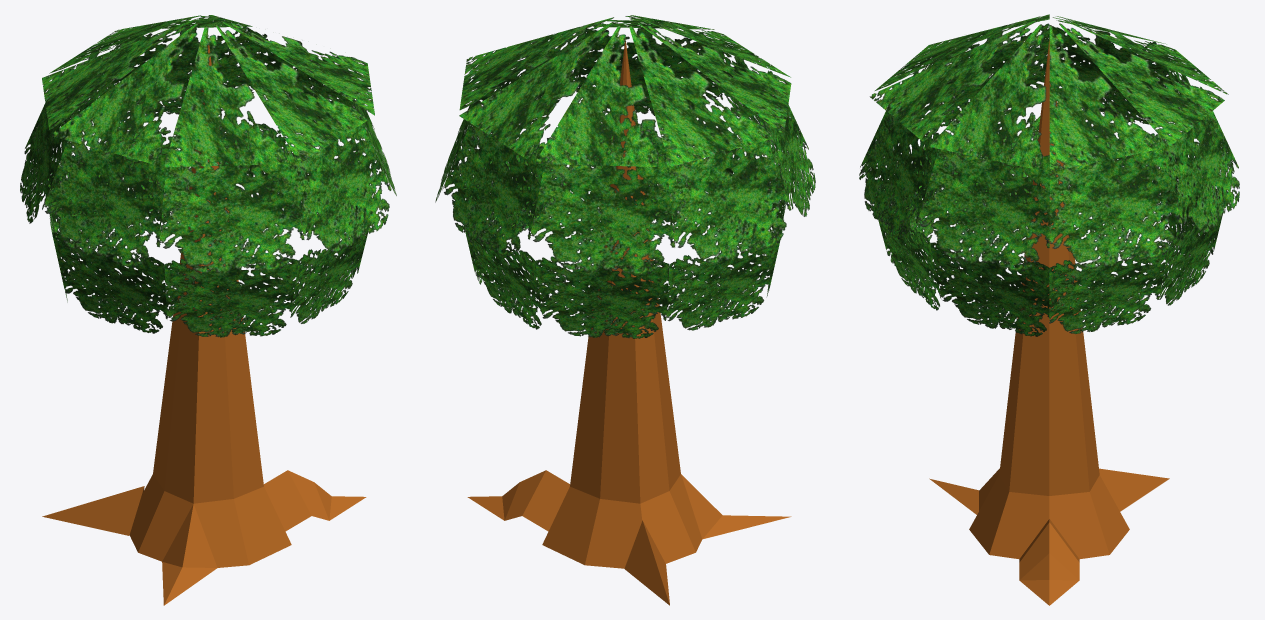
Rendered from oaktree.glb.
3 views of the same model, side by side, from view 1: azimuth 30°, elevation 25°; view 2: azimuth 150°, elevation 25°; view 3: azimuth 270°, elevation 25° (orthographic).
Visible parts, largest first — view 1: leaves, tree; view 2: leaves, tree; view 3: leaves, tree.
Boxes of the visible parts, x1,y1,x2,y2 form: leaves: (20,15,396,337); tree: (42,45,366,605); leaves: (435,15,815,338); tree: (467,38,791,605); leaves: (859,14,1239,336); tree: (929,38,1169,605).
Size of the model in its own units: 2.58 by 3.65 by 2.58.
2 materials, 1 textured.
